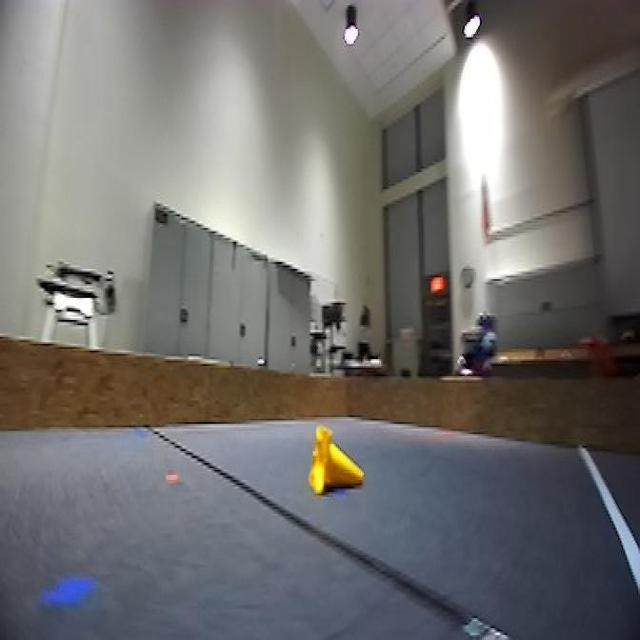frc_cone: (307, 432, 360, 504)
